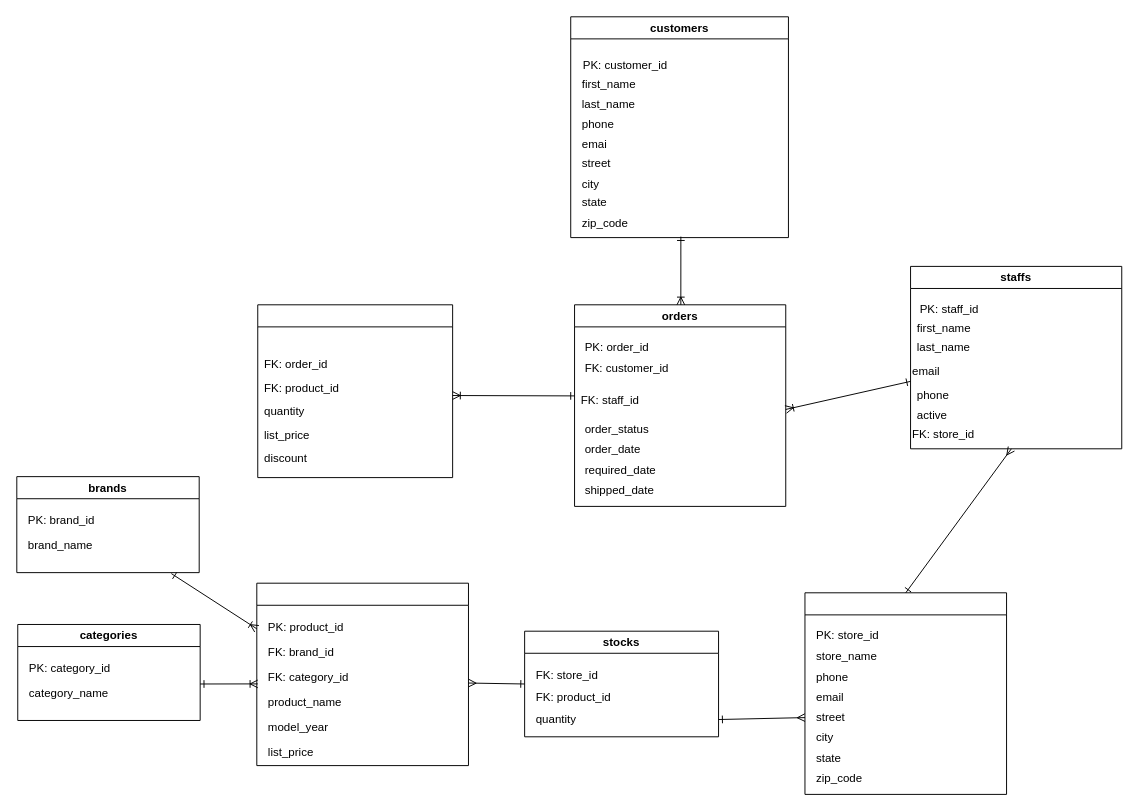
This 1139x811 diagram has some shape labels left out. The shapes that lost their labels are listed below. From the top down, each one's box as (x1, y1, x2, y2) in pixels, then its label:
(257, 304, 453, 478): order_items
(256, 582, 468, 766): products
(804, 592, 1007, 794): stores
